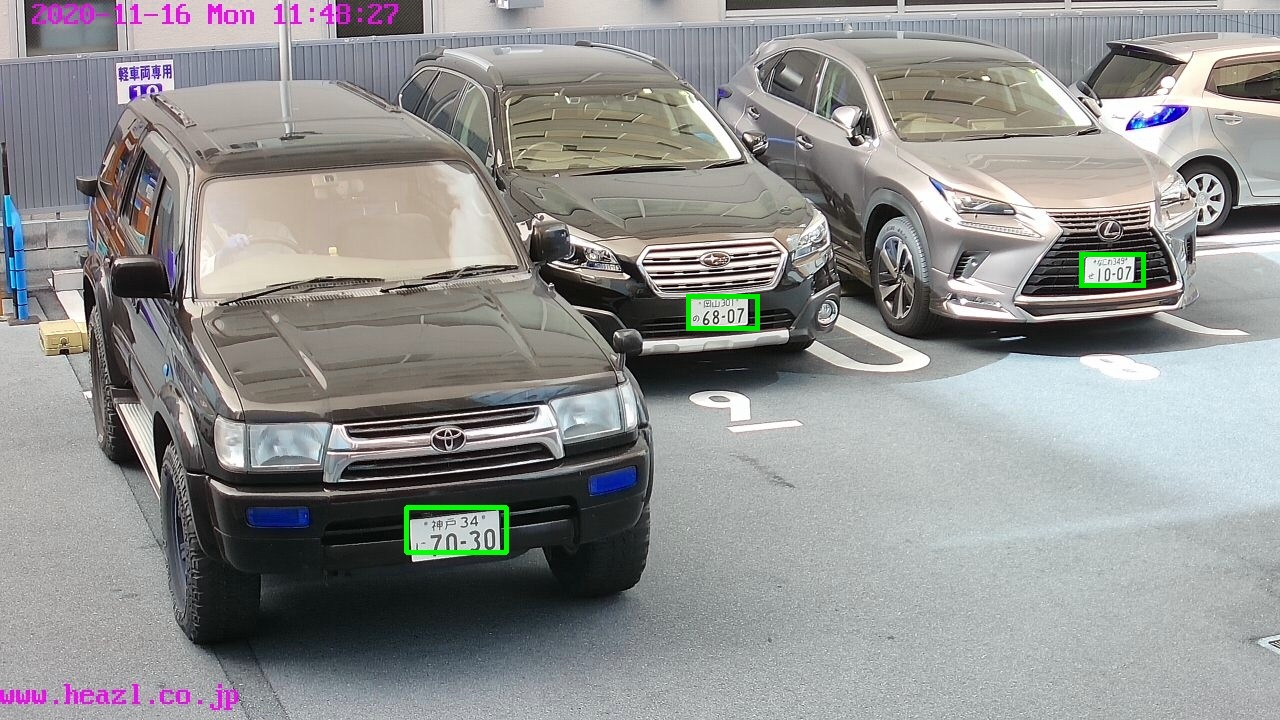number_plate: (408, 517, 502, 555), (687, 296, 749, 325), (1082, 253, 1135, 284)
